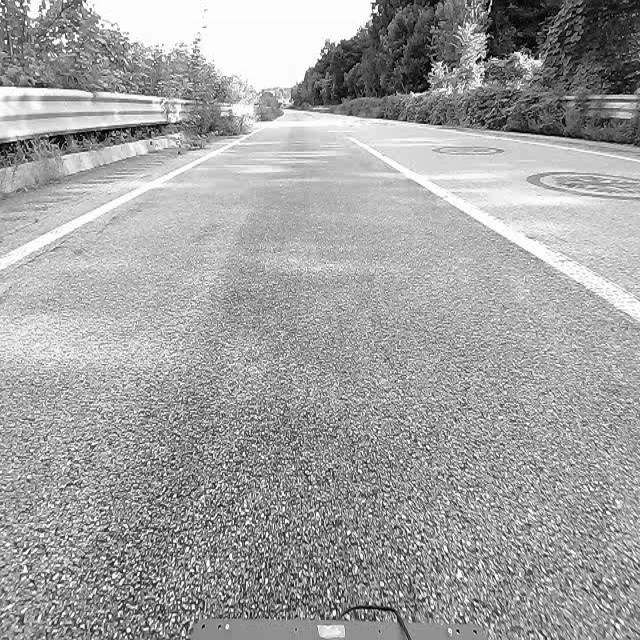Lane: (340, 130, 640, 327), (350, 138, 639, 323), (0, 130, 245, 280), (0, 141, 236, 272)
